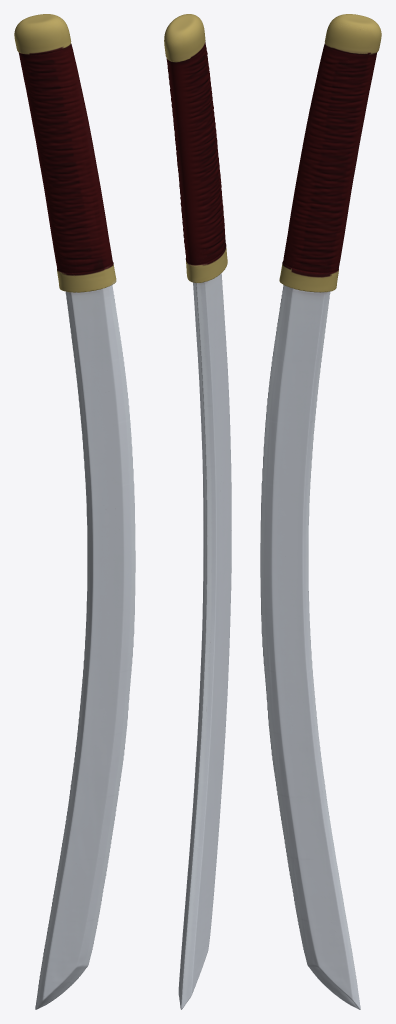
Rendered from sword.glb.
3 renders of one model, left to right at view 1: azimuth 90°, elevation 25°; view 2: azimuth 150°, elevation 25°; view 3: azimuth 270°, elevation 25°, orthographic.
Parts seen in each view (by area): view 1: node_0; view 2: node_0; view 3: node_0.
Part boxes in pixels (x1,y1,x2,y2): node_0: (14,14,135,1009); node_0: (164,14,231,1009); node_0: (260,14,381,1009).
Size of the model in its own units: 0.0395 by 1.2 by 0.1324.
1 material, 1 textured.
